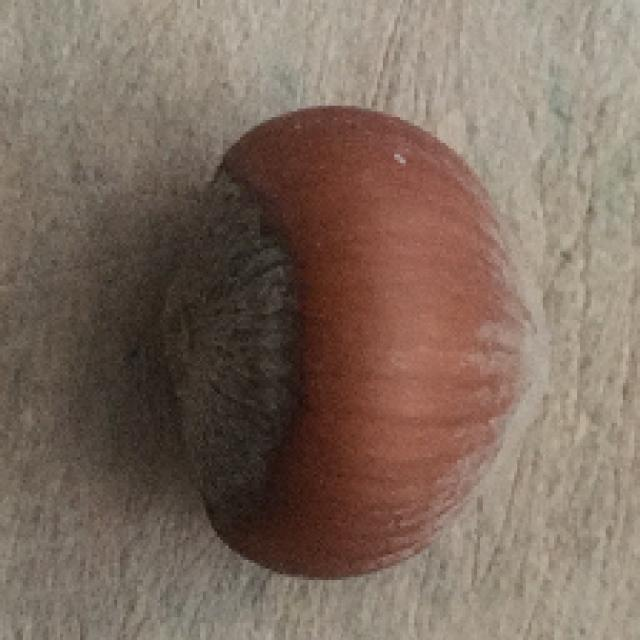qualityHazelnut: (156, 101, 549, 582)
